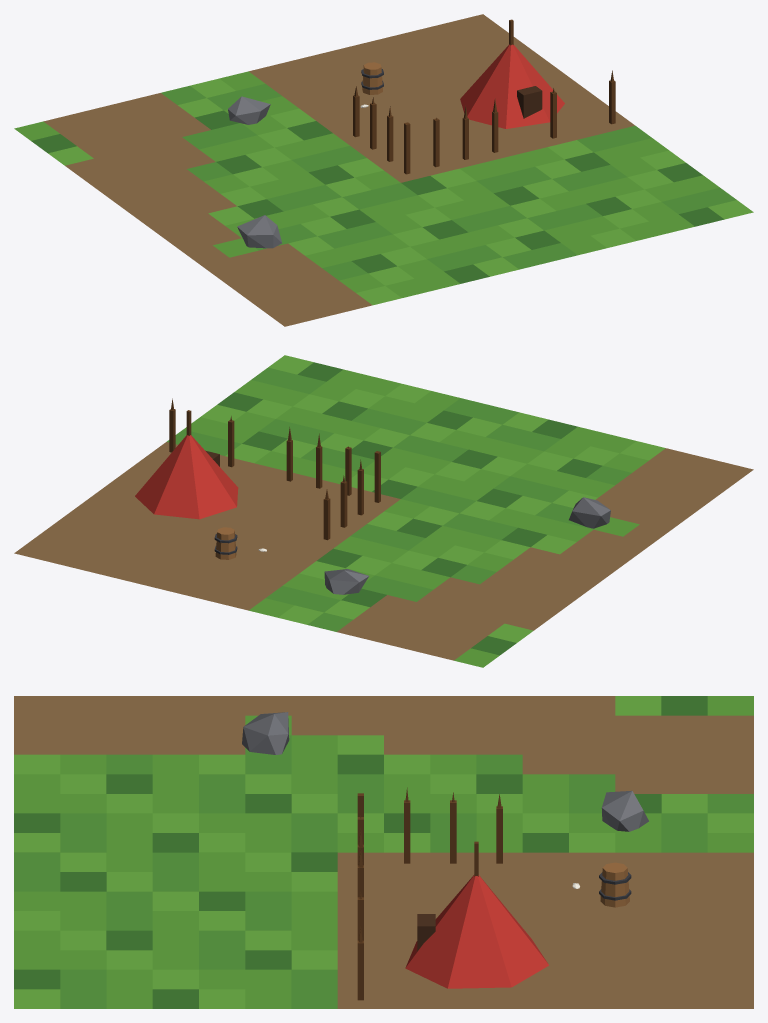
Rendered from chunk_6_8.glb.
3 renders of one model, top to bottom at view 1: azimuth 30°, elevation 25°; view 2: azimuth 150°, elevation 25°; view 3: azimuth 270°, elevation 25°, orthographic. The views are drawn at different scales.
Parts seen in each view (by area): view 1: chunk_6_8; view 2: chunk_6_8; view 3: chunk_6_8.
Boxes of the visible parts, x1=… form: chunk_6_8: x1=14, y1=14, x2=753, y2=326; chunk_6_8: x1=14, y1=355, x2=753, y2=667; chunk_6_8: x1=14, y1=696, x2=753, y2=1008.
Size of the model in its own units: 16 by 3.29 by 16.
